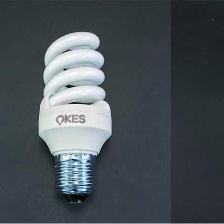light_bulb: (32, 27, 115, 208)
